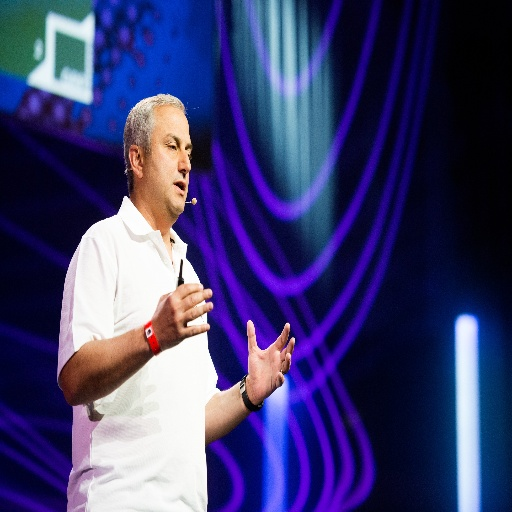hand: (236, 327, 291, 414), (149, 280, 213, 349)
